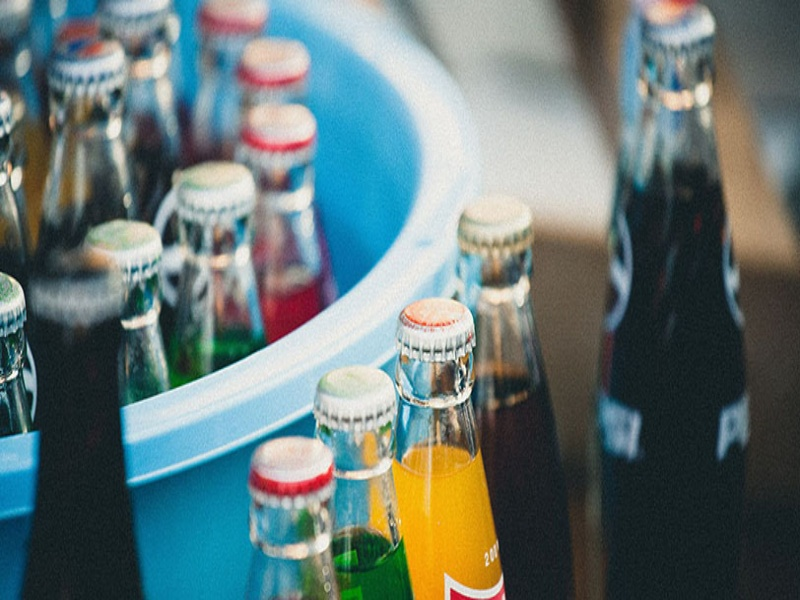Glass bottle: (599, 10, 763, 592), (411, 182, 607, 600), (347, 267, 529, 595), (135, 156, 287, 356), (61, 196, 193, 395)
